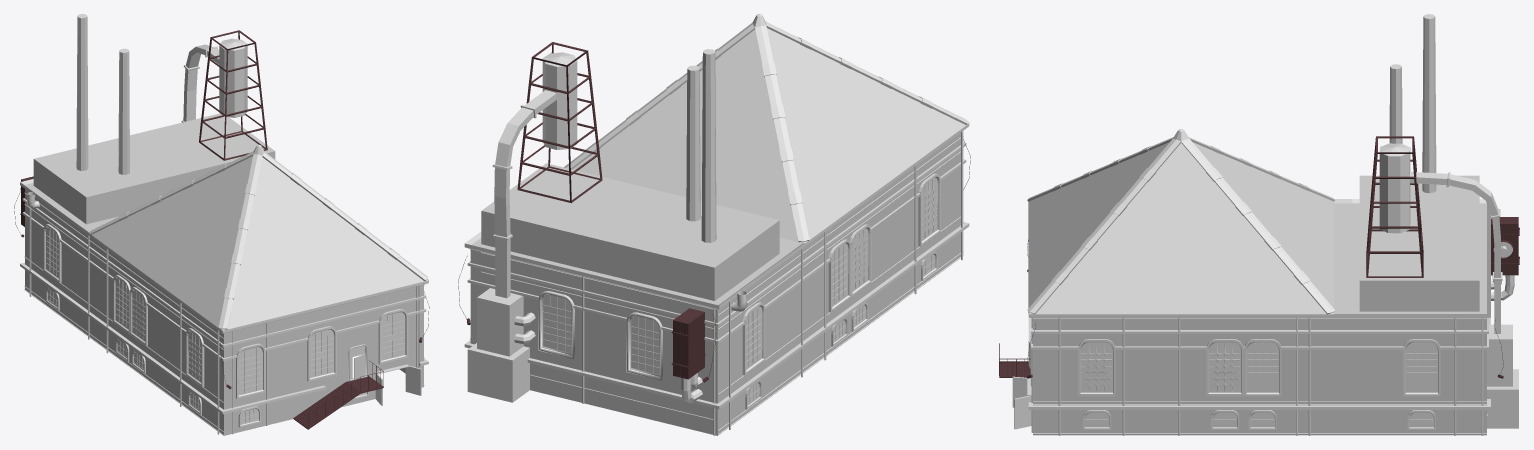
Rendered from 01_Canteen_Industrial.fbx.
3 renders of one model, left to right at view 1: azimuth 30°, elevation 25°; view 2: azimuth 150°, elevation 25°; view 3: azimuth 270°, elevation 25°, orthographic. The views are drawn at different scales.
Visible parts, largest first — view 1: Cube.199; view 2: Cube.199; view 3: Cube.199.
Part boxes in pixels (x1,y1,x2,y2): Cube.199: (14,14,429,435); Cube.199: (458,14,970,435); Cube.199: (999,14,1519,435).
Size of the model in its own units: 27.31 by 34.57 by 50.17.
